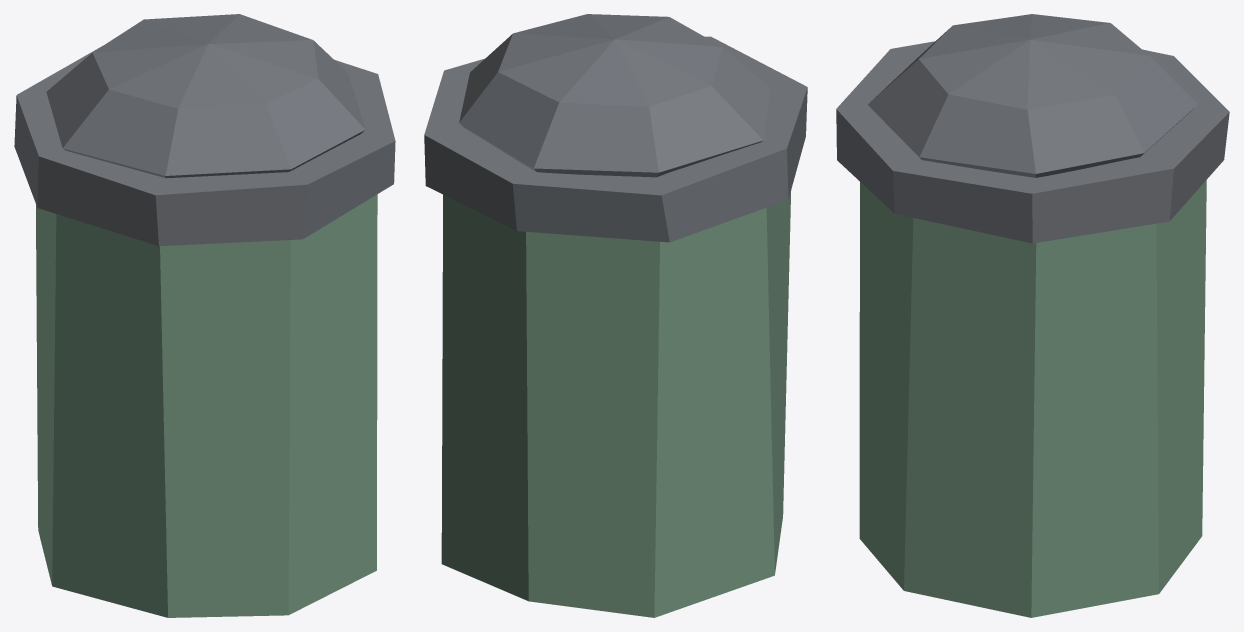
File: litterbin.fbx
3 renders of one model, left to right at view 1: azimuth 30°, elevation 25°; view 2: azimuth 150°, elevation 25°; view 3: azimuth 270°, elevation 25°, orthographic.
Visible parts, largest first — view 1: LitterBin; view 2: LitterBin; view 3: LitterBin.
Boxes of the visible parts, x1=… form: LitterBin: x1=14, y1=14, x2=395, y2=617; LitterBin: x1=424, y1=14, x2=807, y2=617; LitterBin: x1=836, y1=14, x2=1229, y2=617.
Size of the model in its own units: 0.7232 by 1.03 by 0.7217.
